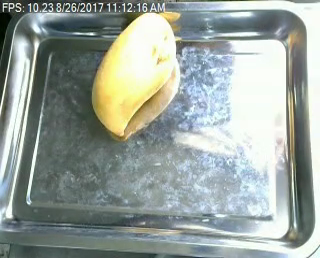Mango: (86, 11, 180, 139)
